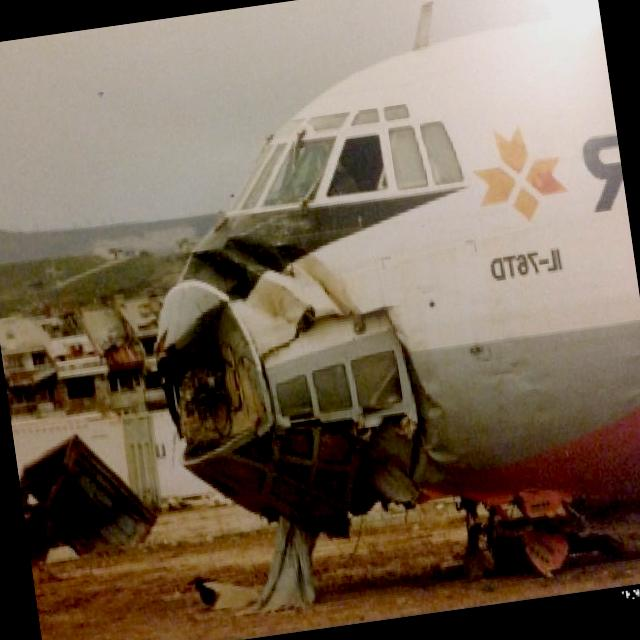dent: (413, 396, 460, 472)
